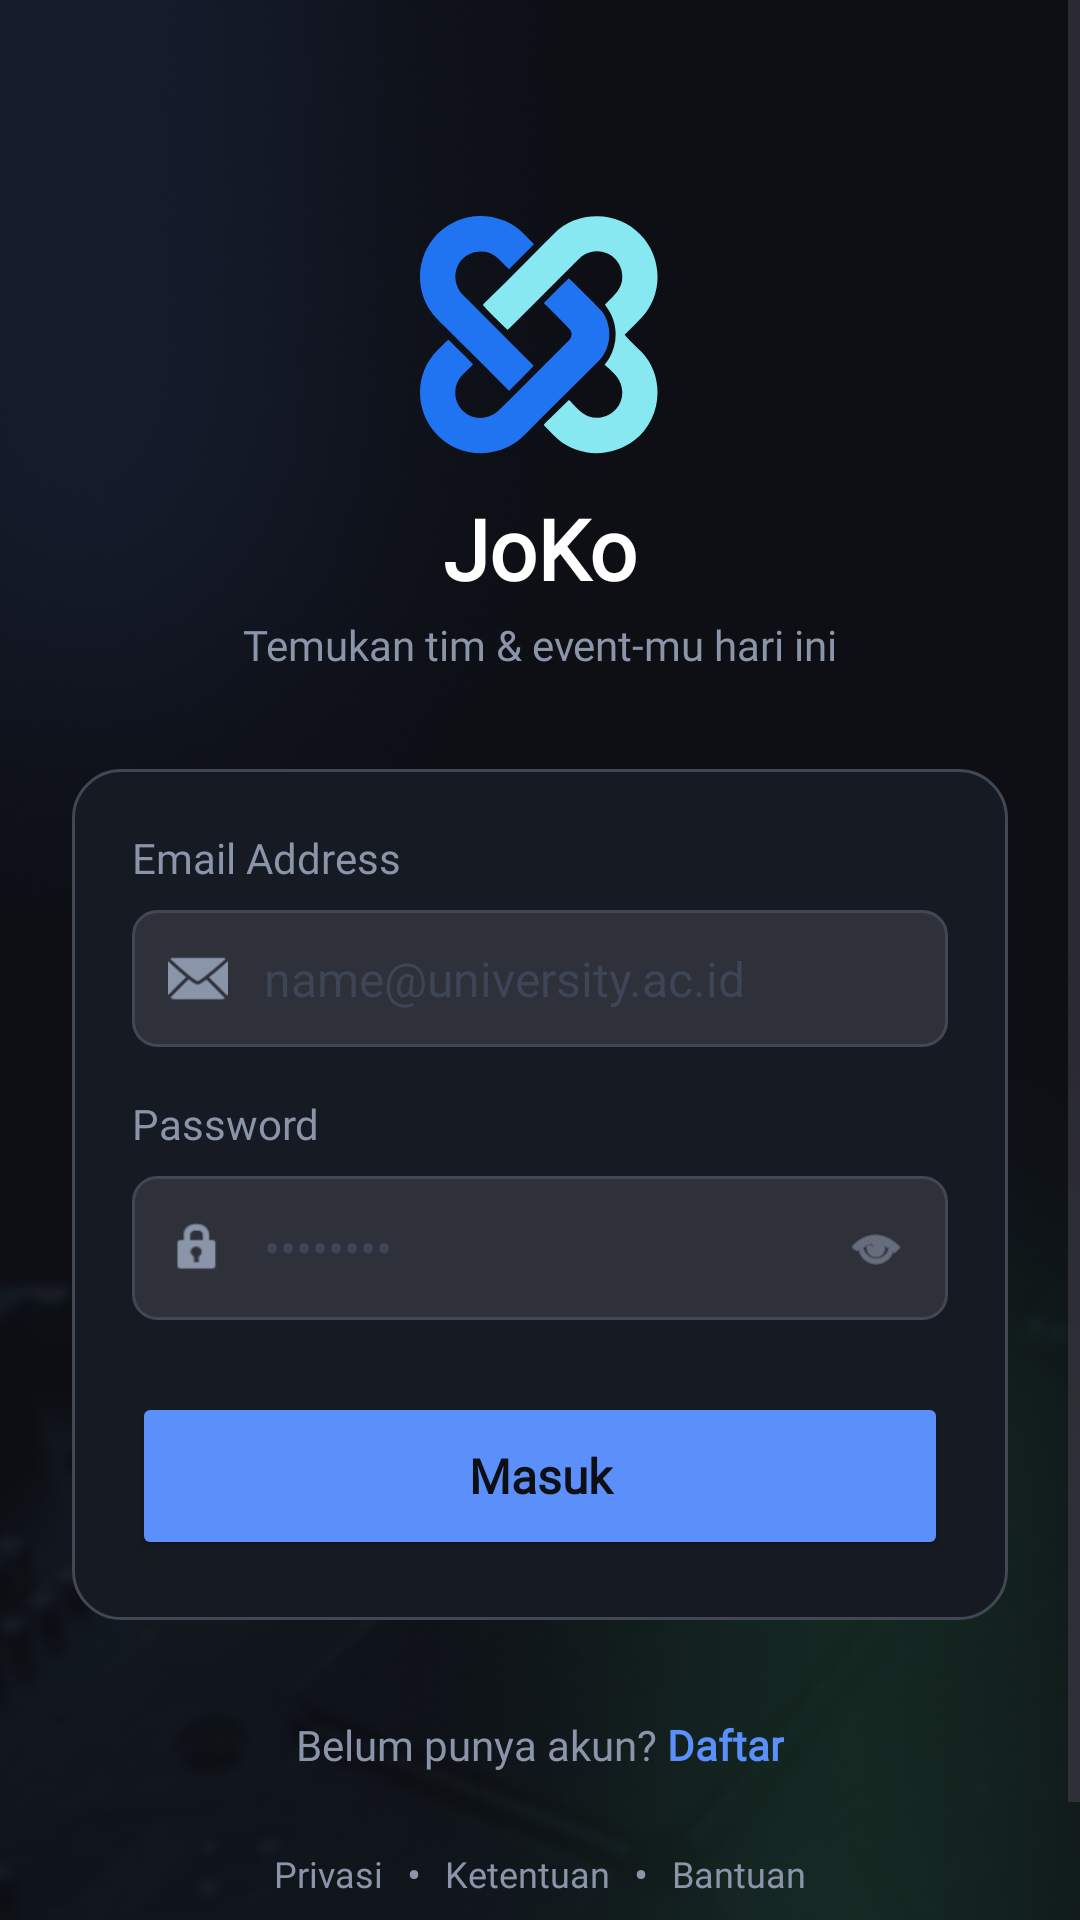

Icons on this 1080px×1920px Android screen, each with the point to tap as (x=x, y=y):
lock idle: (x=196, y=1246)
Show Password: (x=876, y=1249)
